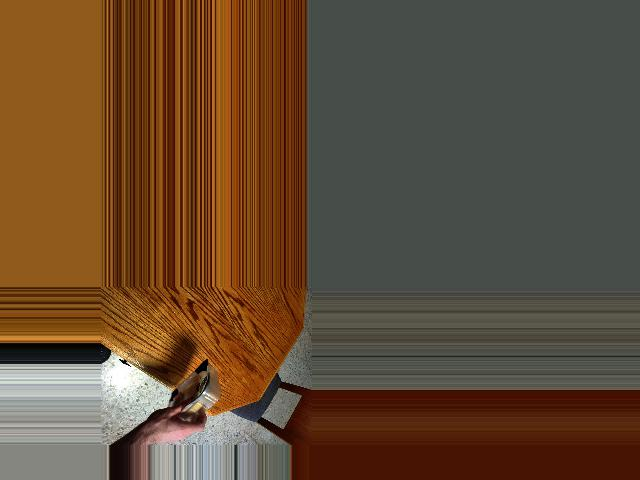cheese: (148, 363, 232, 424)
